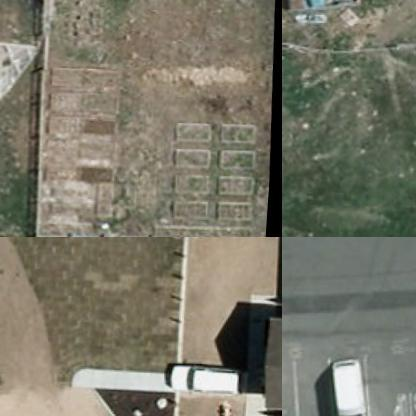car: (166, 355, 245, 393), (333, 354, 378, 415)
pickup: (282, 0, 360, 17)
